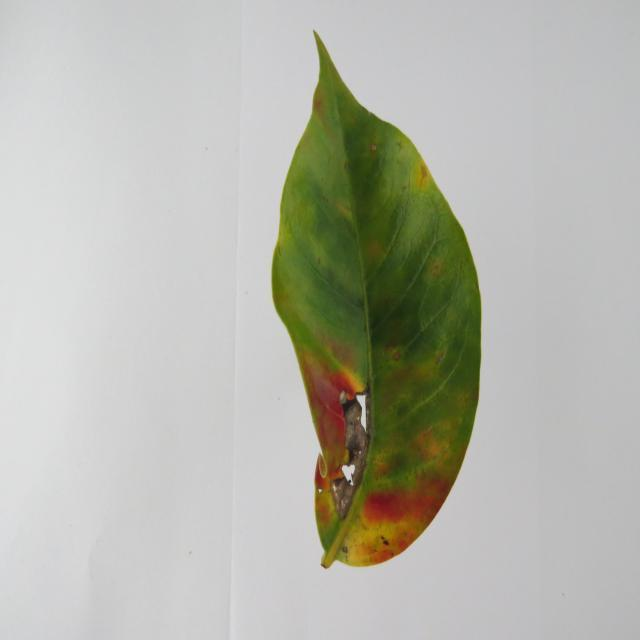DeficienciaNutricional-Fosforo: (272, 33, 481, 567)
